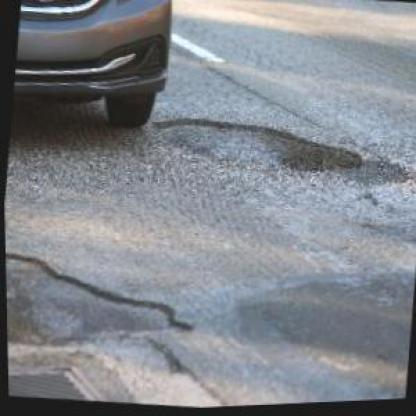pothole: (147, 104, 365, 189)
